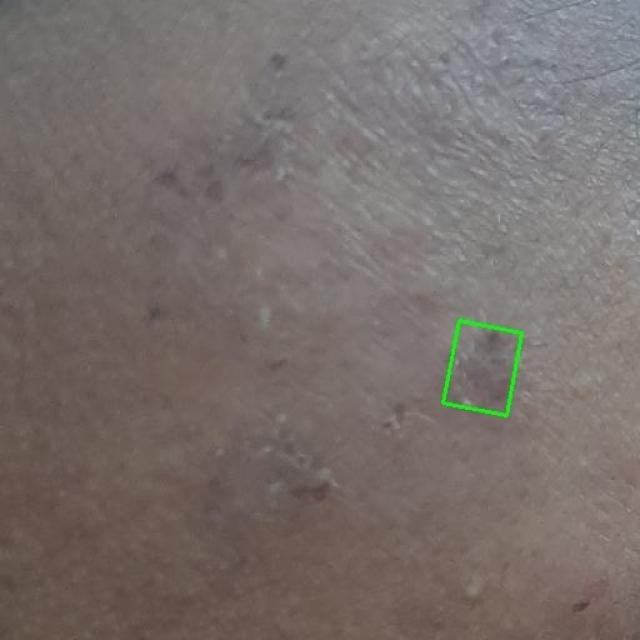Tinea Corporis: (443, 321, 522, 415)
